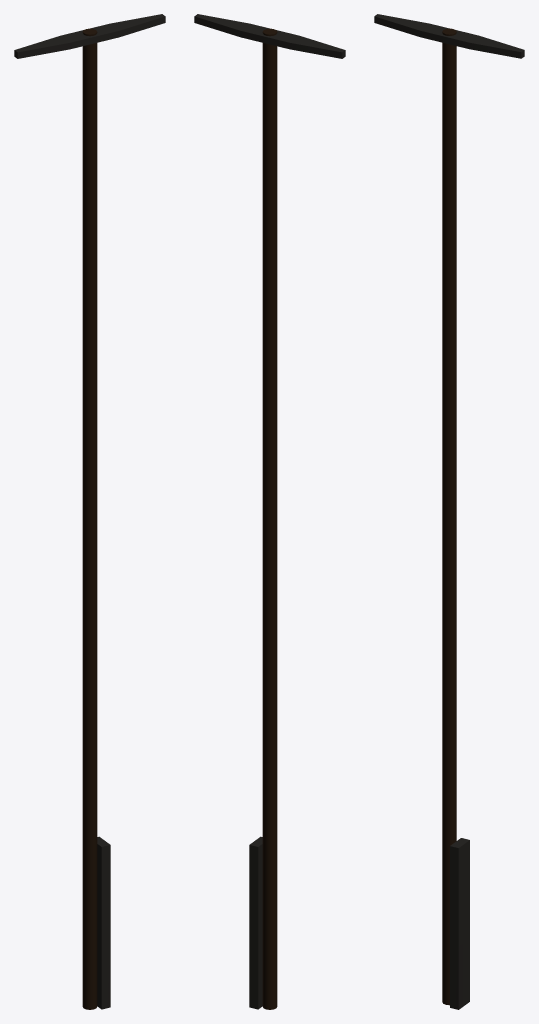
Rendered from SM_electircpylon.FBX.
The picture shows the model from 3 angles, left to right: view 1: azimuth 30°, elevation 25°; view 2: azimuth 150°, elevation 25°; view 3: azimuth 330°, elevation 25°; orthographic projection.
Parts seen in each view (by area): view 1: electricpylon; view 2: electricpylon; view 3: electricpylon.
Part boxes in pixels (x1=…): electricpylon: x1=14, y1=14, x2=165, y2=1009; electricpylon: x1=194, y1=14, x2=345, y2=1009; electricpylon: x1=374, y1=14, x2=524, y2=1009.
Bounding box in the file's own units: 95.2 × 600 × 12.57.
